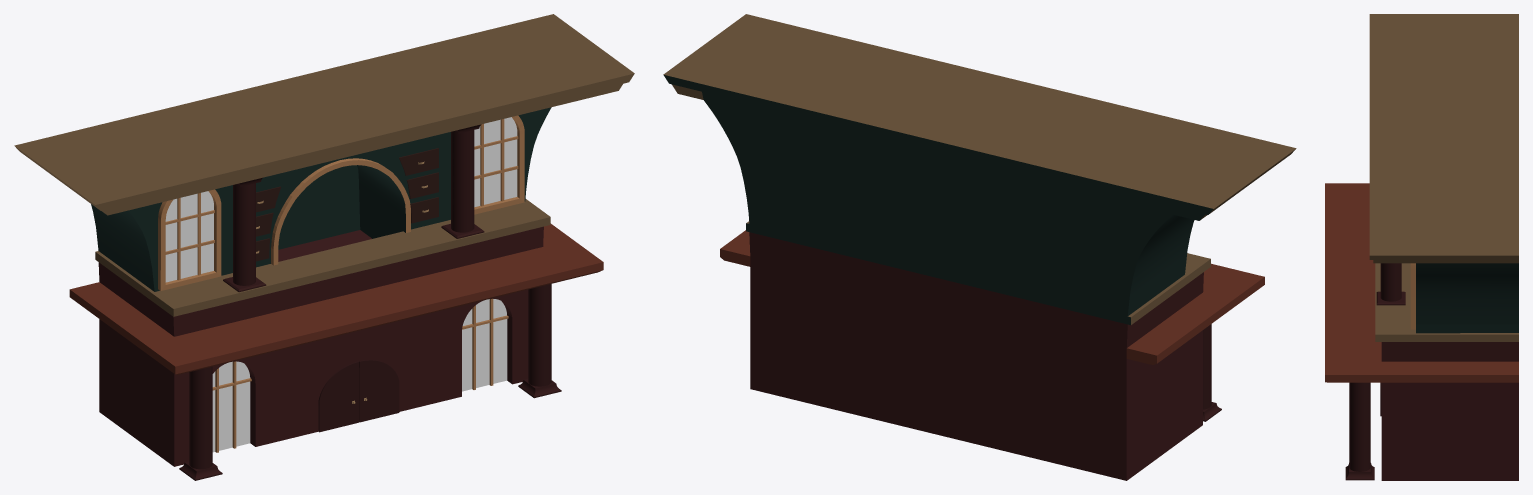
Rendered from Hotel.fbx.
3 renders of one model, left to right at view 1: azimuth 30°, elevation 25°; view 2: azimuth 150°, elevation 25°; view 3: azimuth 270°, elevation 25°, orthographic. The views are drawn at different scales.
Parts seen in each view (by area): view 1: Hotel; view 2: Hotel; view 3: Hotel.
Part boxes in pixels (box(x1,y1,x2,y2)): Hotel: box(14, 14, 634, 480); Hotel: box(663, 14, 1296, 480); Hotel: box(1325, 14, 1518, 480).
Bounding box in the file's own units: 1083 × 551 × 367.
